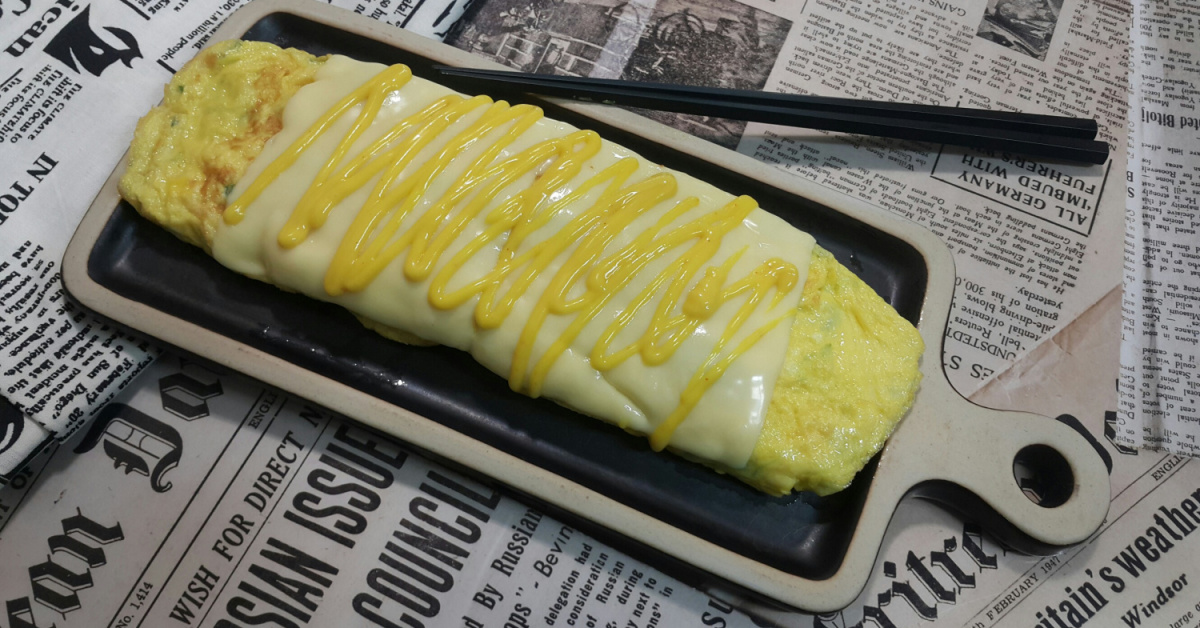gyelanmal-i: (123, 36, 944, 518)
